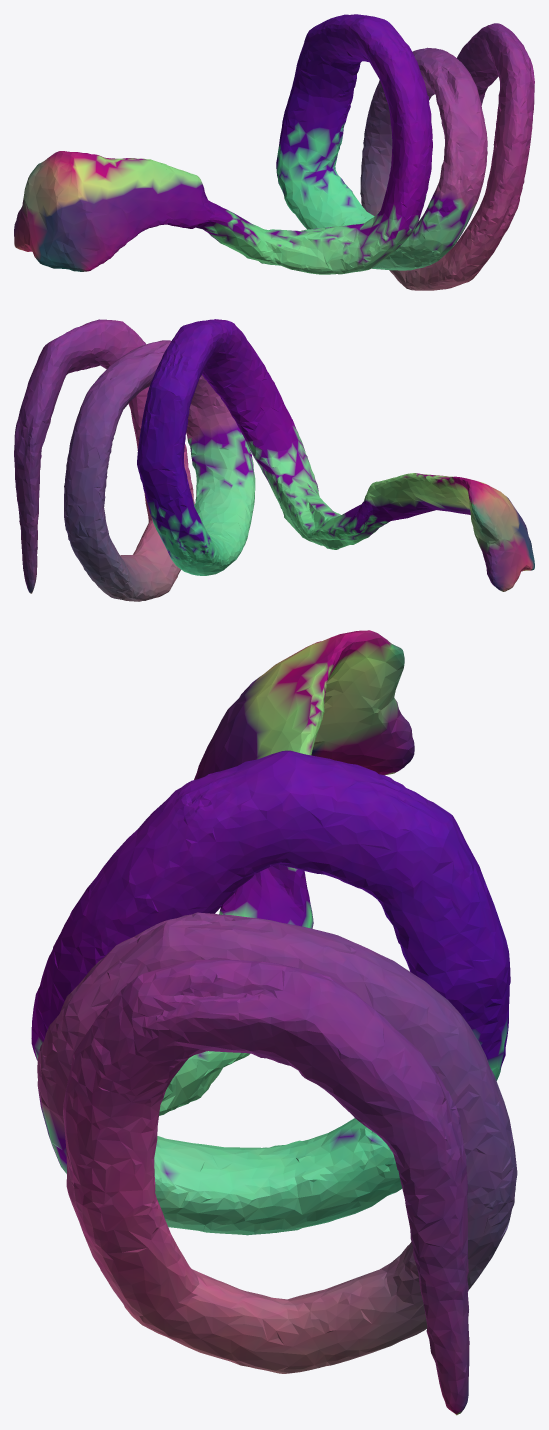
The model's file is snake-15.off.obj.
3 renders of one model, top to bottom at view 1: azimuth 30°, elevation 25°; view 2: azimuth 150°, elevation 25°; view 3: azimuth 270°, elevation 25°, orthographic. The views are drawn at different scales.
Size of the model in its own units: 1.35 by 0.7489 by 0.5858.
